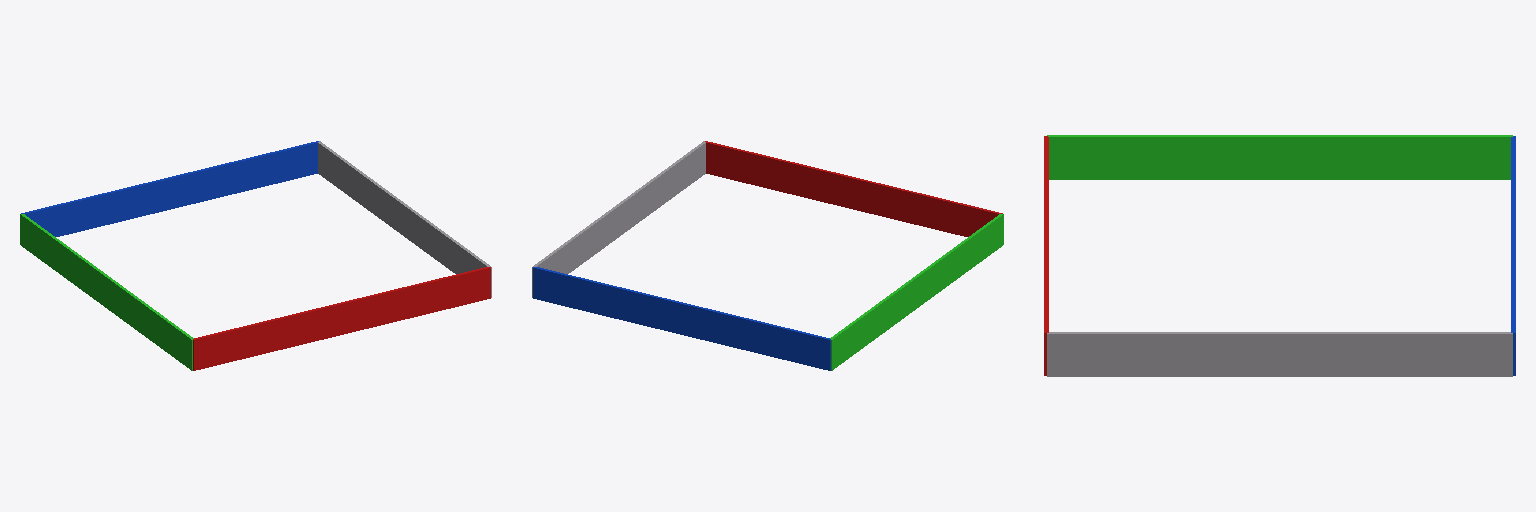
URDF robot description (unnamed):
<robot name="unnamed" version="1.0">
  <joint name="wall_1_2" type="fixed">
    <origin rpy="0.00000 0.00000 0.00000" xyz="0.00000 0.00000 0.00000"/>
    <parent link="wall_1"/>
    <child link="wall_2"/>
  </joint>
  <joint name="wall_2_3" type="fixed">
    <origin rpy="0.00000 0.00000 0.00000" xyz="0.00000 0.00000 0.00000"/>
    <parent link="wall_2"/>
    <child link="wall_3"/>
  </joint>
  <joint name="wall_3_4" type="fixed">
    <origin rpy="0.00000 0.00000 0.00000" xyz="0.00000 0.00000 0.00000"/>
    <parent link="wall_3"/>
    <child link="wall_4"/>
  </joint>
  <link name="wall_1">
    <collision name="wall_1_collision">
      <origin rpy="1.57080 0.00000 0.00000" xyz="5.00000 0.00000 0.50000"/>
      <geometry>
        <box size="0.10000 1.00000 10.00000"/>
      </geometry>
    </collision>
    <visual name="wall_1_visual">
      <origin rpy="0.00000 0.00000 0.00000" xyz="5.00000 0.00000 0.50000"/>
      <material name="grey"/>
      <geometry>
        <box size="0.10000 10.00000 1.00000"/>
      </geometry>
    </visual>
  </link>
  <link name="wall_2">
    <collision name="wall_2_collision">
      <origin rpy="0.00000 0.00000 0.00000" xyz="-5.00000 0.00000 0.50000"/>
      <geometry>
        <box size="0.10000 10.00000 1.00000"/>
      </geometry>
    </collision>
    <visual name="wall_2_visual">
      <origin rpy="0.00000 0.00000 0.00000" xyz="-5.00000 0.00000 0.50000"/>
      <material name="green"/>
      <geometry>
        <box size="0.10000 10.00000 1.00000"/>
      </geometry>
    </visual>
  </link>
  <link name="wall_3">
    <collision name="wall_3_collision">
      <origin rpy="0.00000 0.00000 0.00000" xyz="0.00000 5.00000 0.50000"/>
      <geometry>
        <box size="10.00000 0.10000 1.00000"/>
      </geometry>
    </collision>
    <visual name="wall_3_visual">
      <origin rpy="0.00000 0.00000 0.00000" xyz="0.00000 5.00000 0.50000"/>
      <material name="bliue"/>
      <geometry>
        <box size="10.00000 0.10000 1.00000"/>
      </geometry>
    </visual>
  </link>
  <link name="wall_4">
    <collision name="wall_4_collision">
      <origin rpy="0.00000 0.00000 0.00000" xyz="0.00000 -5.00000 0.50000"/>
      <geometry>
        <box size="10.00000 0.10000 1.00000"/>
      </geometry>
    </collision>
    <visual name="wall_4_visual">
      <origin rpy="0.00000 0.00000 0.00000" xyz="0.00000 -5.00000 0.50000"/>
      <material name="red"/>
      <geometry>
        <box size="10.00000 0.10000 1.00000"/>
      </geometry>
    </visual>
  </link>
  <material name="bliue">
    <color rgba="0.11373 0.33333 0.80000 1.00000"/>
  </material>
  <material name="green">
    <color rgba="0.20392 0.80000 0.20392 1.00000"/>
  </material>
  <material name="grey">
    <color rgba="0.66275 0.65098 0.67059 1.00000"/>
  </material>
  <material name="red">
    <color rgba="0.80000 0.12157 0.12157 1.00000"/>
  </material>
</robot>

--- Facts derived from the render (not from the file) ---
The picture shows the robot from 3 angles, left to right: view 1: azimuth 30°, elevation 25°; view 2: azimuth 150°, elevation 25°; view 3: azimuth 270°, elevation 25°; orthographic projection.
Model unnamed with 4 links and 3 joints (3 fixed), rooted at wall_1, posed every joint at zero.
Visible links, largest first — view 1: wall_4, wall_3, wall_2, wall_1; view 2: wall_3, wall_4, wall_2, wall_1; view 3: wall_1, wall_2, wall_4, wall_3.
Boxes of the visible links, <box> form: wall_4: <box>193,267,490,370</box>; wall_3: <box>21,141,318,236</box>; wall_2: <box>20,214,193,370</box>; wall_1: <box>318,141,491,297</box>; wall_3: <box>533,267,830,370</box>; wall_4: <box>705,141,1002,236</box>; wall_2: <box>830,214,1003,370</box>; wall_1: <box>532,141,705,297</box>; wall_1: <box>1047,332,1512,376</box>; wall_2: <box>1047,135,1512,179</box>; wall_4: <box>1044,136,1048,375</box>; wall_3: <box>1511,136,1515,375</box>.
Bounding box of the posed robot: 10.1 × 10.1 × 1 m (x, y, z).
Geometry: primitives only (box / cylinder / sphere), no mesh files.